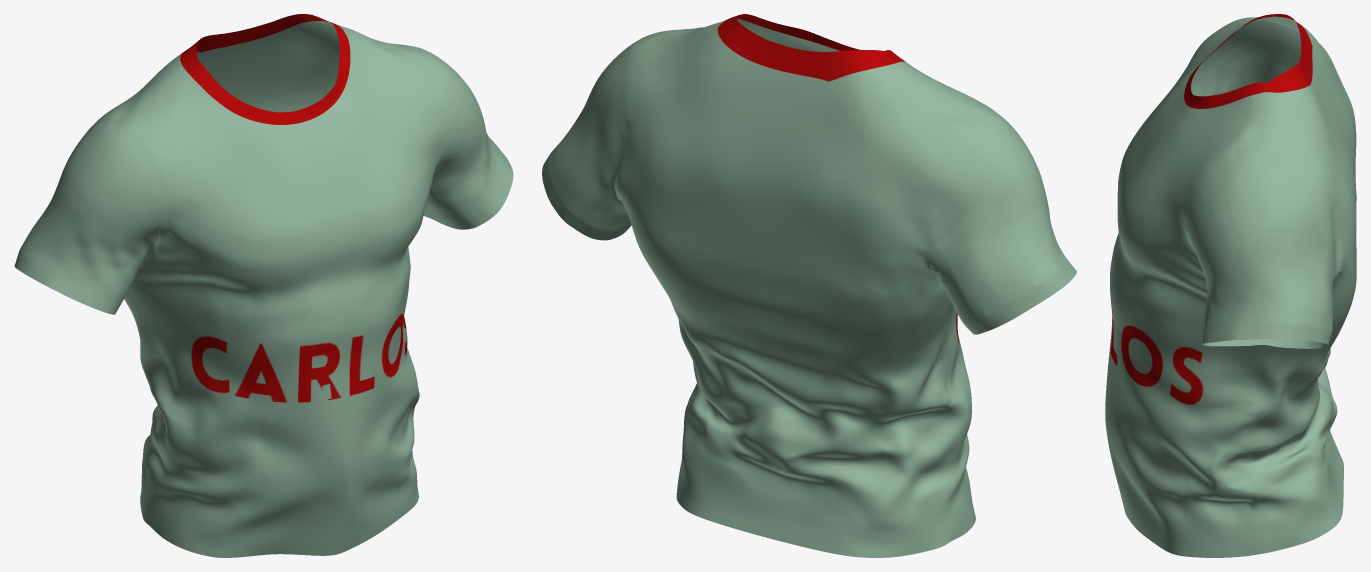
Rendered from t-shirt.glb.
The picture shows the model from 3 angles, left to right: view 1: azimuth 30°, elevation 25°; view 2: azimuth 150°, elevation 25°; view 3: azimuth 270°, elevation 25°; orthographic projection. The views are drawn at different scales.
Visible parts, largest first — view 1: R; view 2: R; view 3: R.
Part boxes in pixels (<box>): R: <box>14,14,513,557</box>; R: <box>542,14,1076,557</box>; R: <box>1105,14,1356,557</box>.
Bounding box in the file's own units: 4.33 × 4.03 × 1.96.
Materials: 1 (1 with a texture image).
